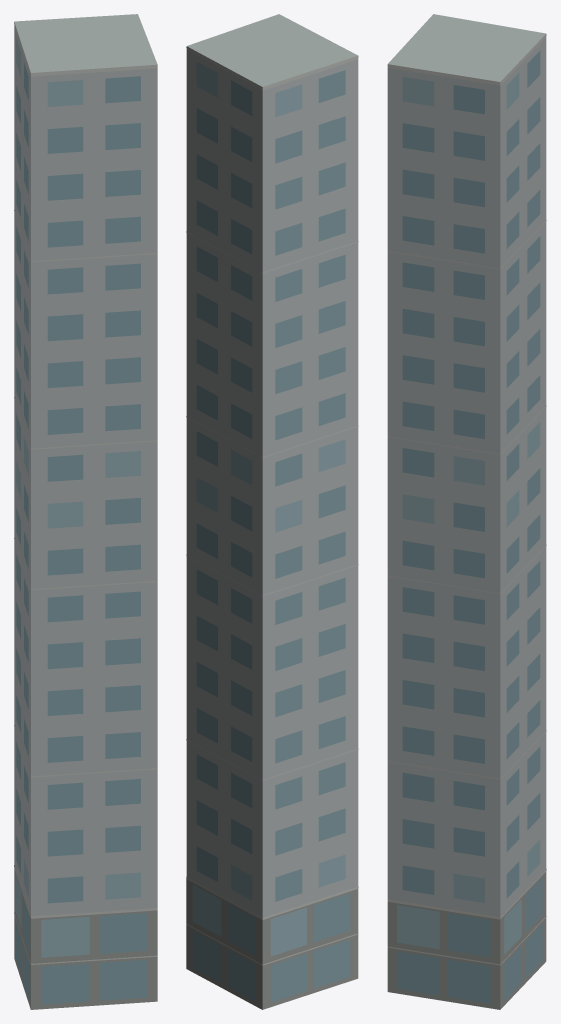
The model's file is survey-upis-32634284.glb.
The picture shows the model from 3 angles, left to right: view 1: azimuth 30°, elevation 25°; view 2: azimuth 150°, elevation 25°; view 3: azimuth 270°, elevation 25°; orthographic projection.
Parts seen in each view (by area): view 1: survey-upis-32634284.tmp; view 2: survey-upis-32634284.tmp; view 3: survey-upis-32634284.tmp.
Part boxes in pixels (x1,y1,x2,y2): survey-upis-32634284.tmp: (14,14,157,1009); survey-upis-32634284.tmp: (186,14,358,1009); survey-upis-32634284.tmp: (387,14,546,1009).
Bounding box in the file's own units: 9.62 × 61 × 9.49.
